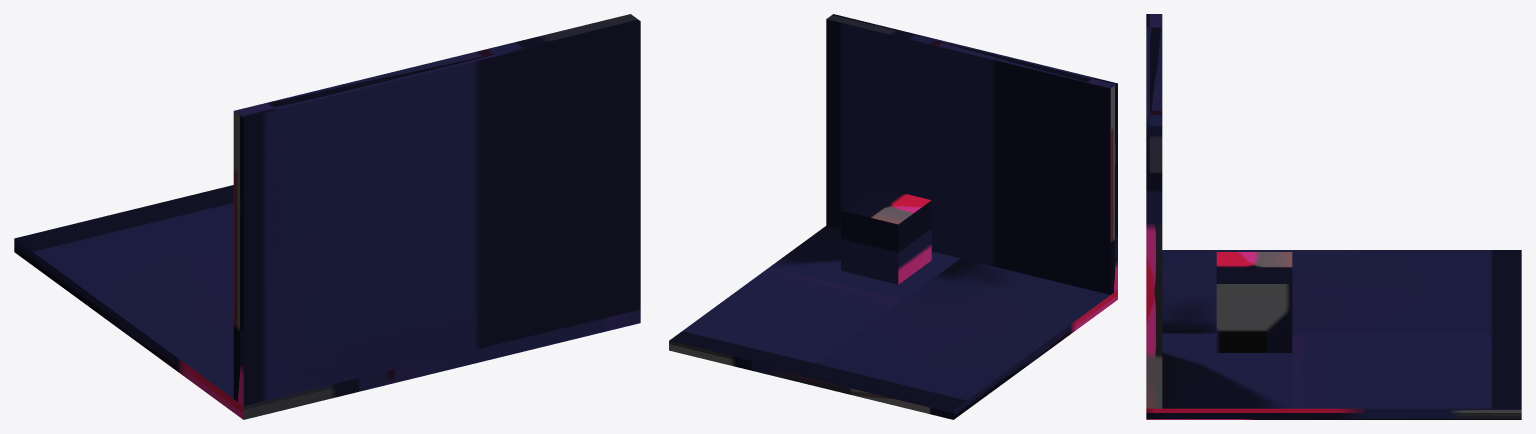
File: Testy.gltf
3 views of the same model, side by side, from view 1: azimuth 30°, elevation 25°; view 2: azimuth 150°, elevation 25°; view 3: azimuth 270°, elevation 25° (orthographic). The views are drawn at different scales.
Visible parts, largest first — view 1: TestStuff; view 2: TestStuff; view 3: TestStuff.
Boxes of the visible parts, bbox=[...] form: TestStuff: bbox=[14, 14, 640, 419]; TestStuff: bbox=[669, 14, 1117, 419]; TestStuff: bbox=[1146, 14, 1521, 419].
Bounding box in the file's own units: 8.11 × 5.89 × 8.11.
2 materials, 2 textured.
